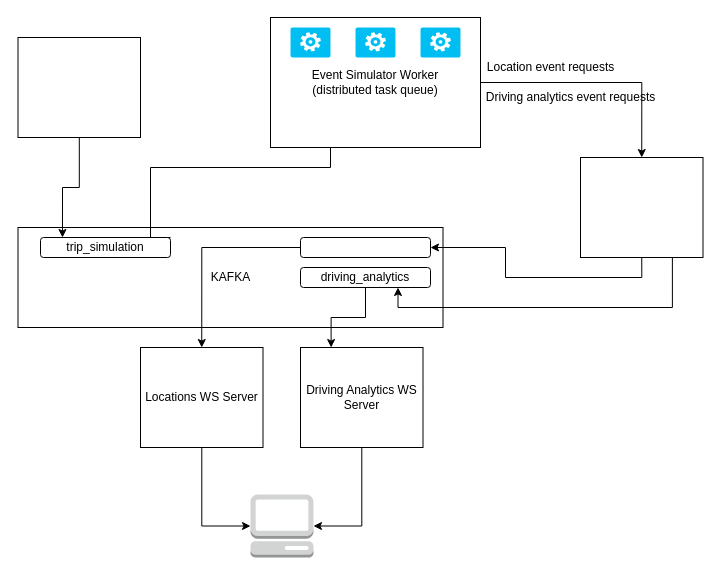
The diagram is 720 pixels wide and 575 high, and some of its shapes have lost their labels. The shapes that lost their labels are listed below. From the top down, each one's centre as x and y in pixels, then its label:
At point (78, 87): "Event Simulator Web".
At point (641, 207): "Event Handler API".
At point (365, 247): "locations".
